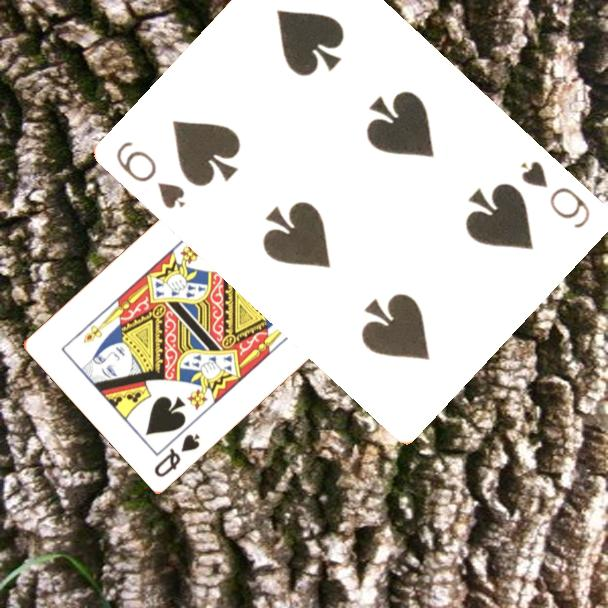s06: (518, 157, 594, 232), (113, 138, 189, 212)
s12: (150, 429, 203, 480)
